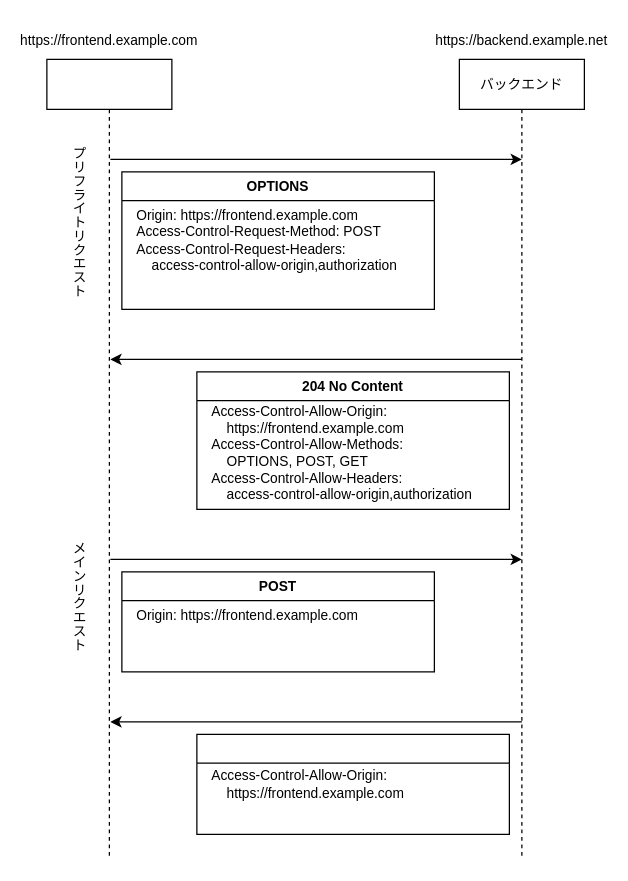
The diagram is 628 pixels wide and 881 high, and some of its shapes have lost their labels. The box of each missing label's shape, as (x1, y1, x2, y2) in pixels:
200 OK: (196, 733, 509, 834)
フロントエンド: (46, 58, 172, 859)
